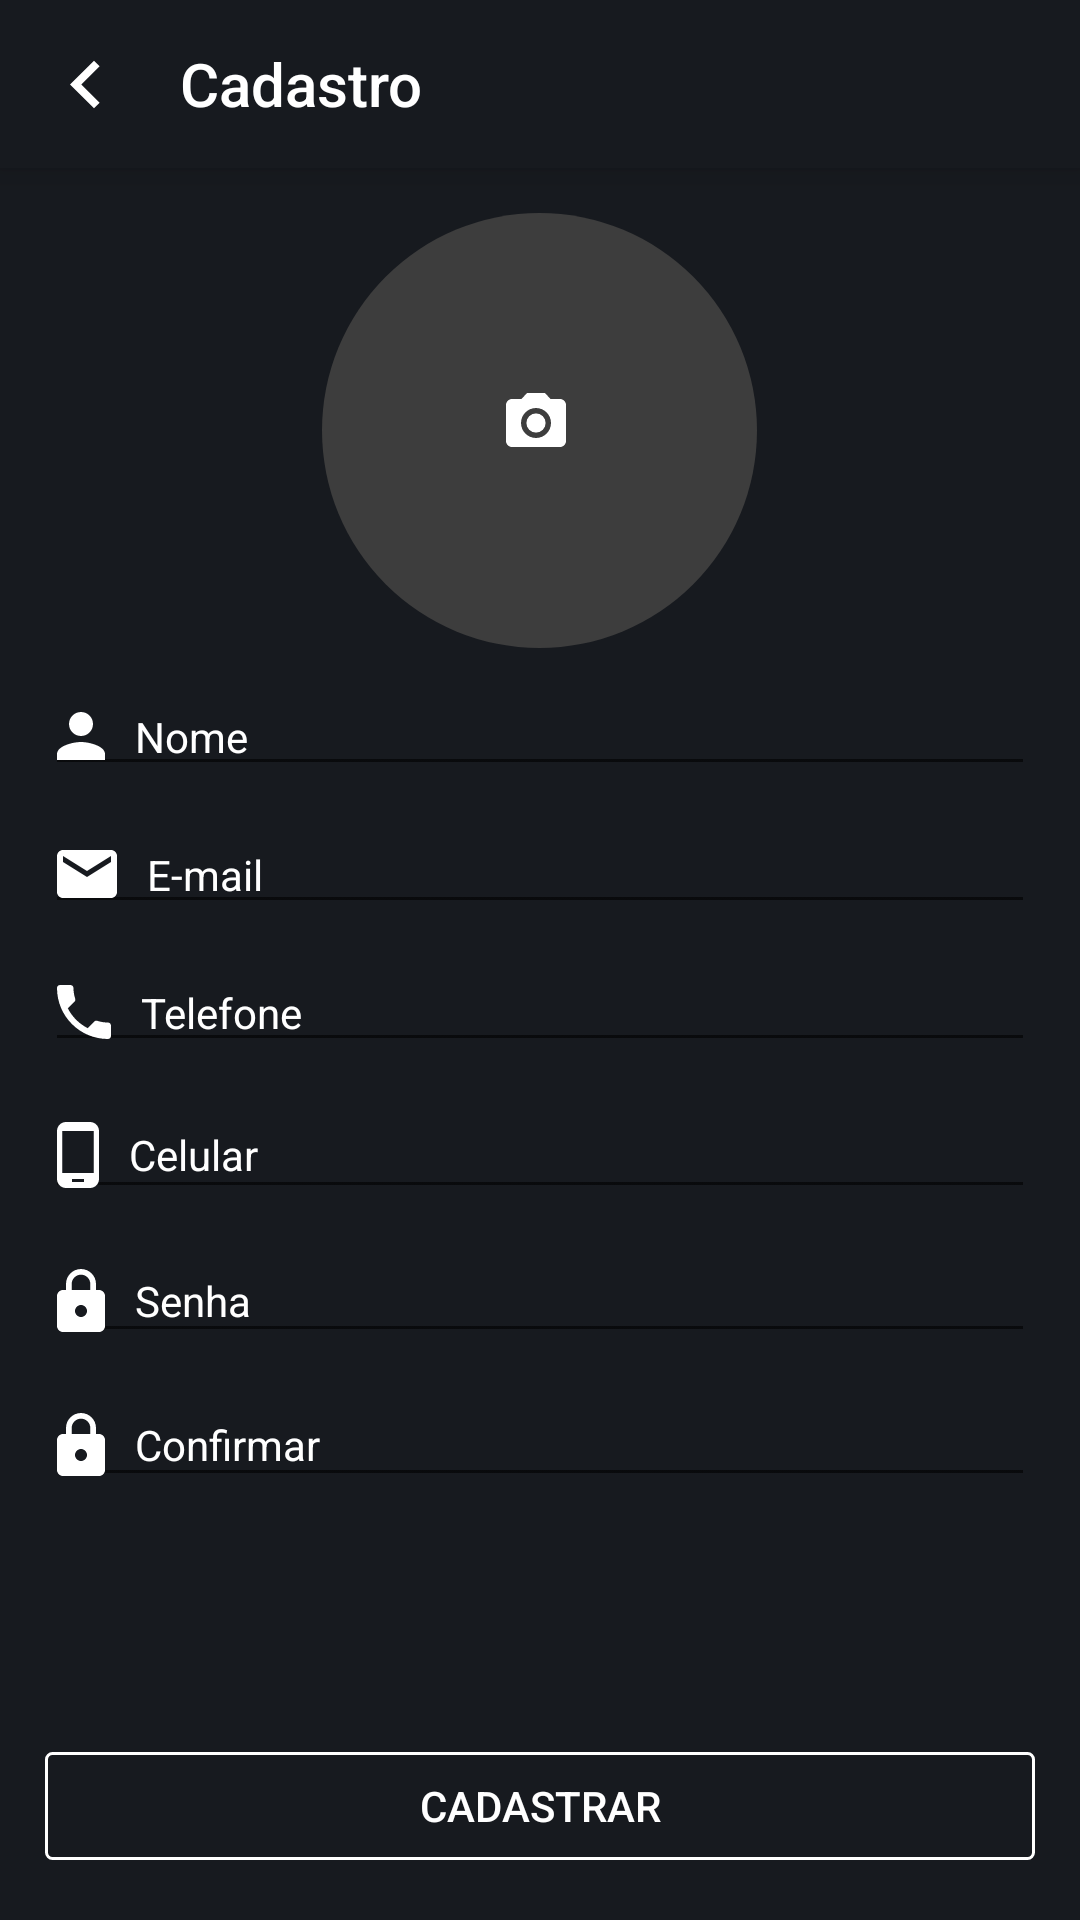

Where to tap for icons on this 1080 x 1920 app screen, as (x=x, y=y):
camera: (x=536, y=420)
